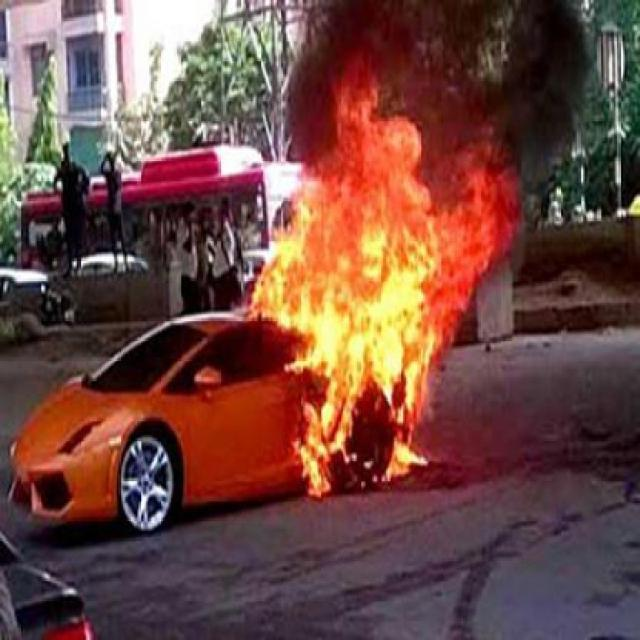Fire: (271, 49, 519, 490)
Smoke: (281, 9, 598, 176)
